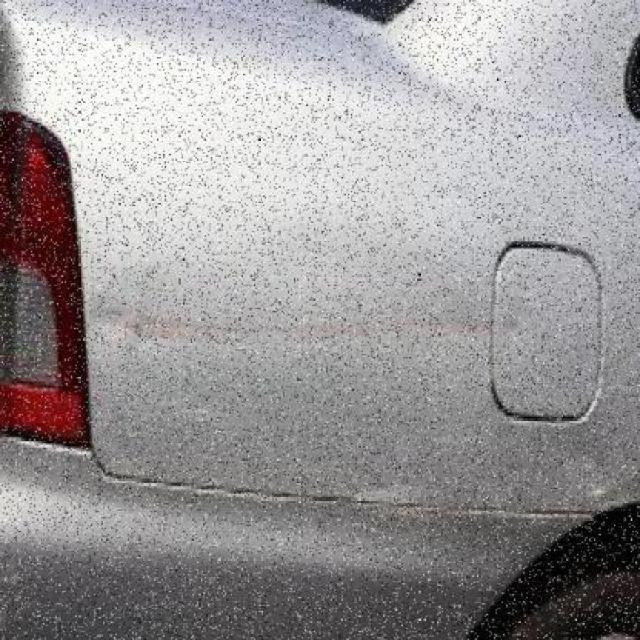quaterpanel-dent: (96, 8, 639, 508)
